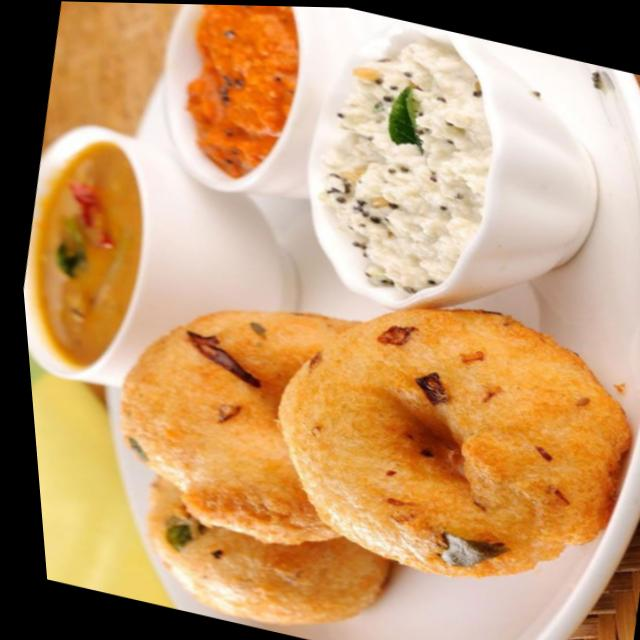RED CHUTNEY: (186, 4, 300, 176)
SAMBAR: (35, 139, 140, 367)
VADA: (119, 304, 631, 623)
WHITE CHUTNEY: (325, 36, 495, 292)
